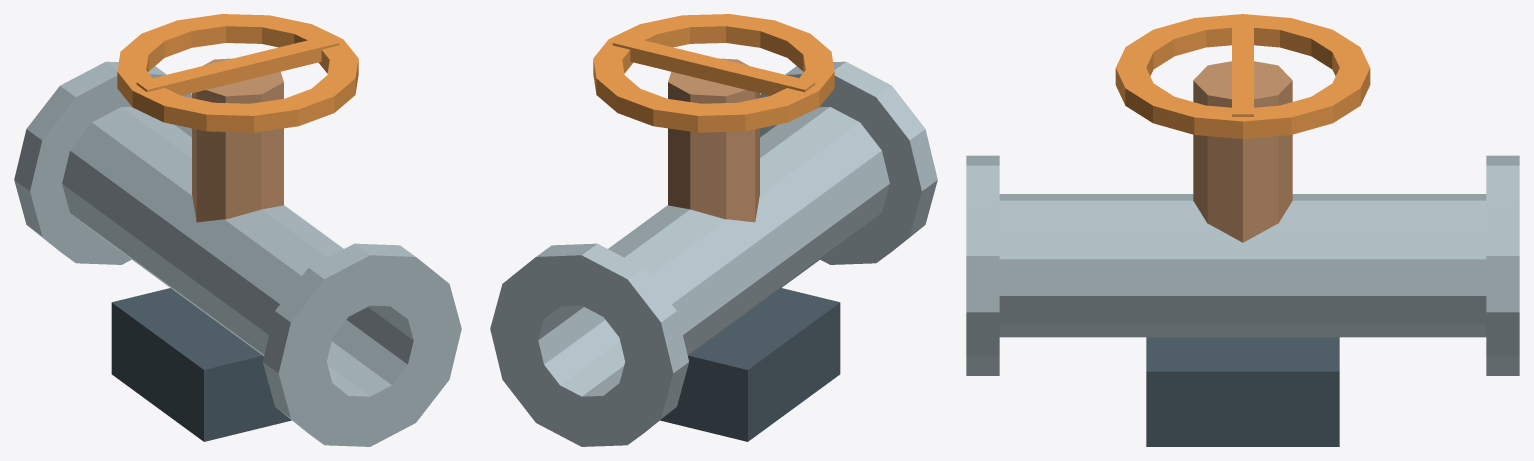
The model's file is handwheel-shutoff-valve.glb.
3 views of the same model, side by side, from view 1: azimuth 30°, elevation 25°; view 2: azimuth 150°, elevation 25°; view 3: azimuth 270°, elevation 25° (orthographic). The views are drawn at different scales.
Parts seen in each view (by area): view 1: steel, orange, dark, copper; view 2: steel, orange, dark, copper; view 3: steel, dark, orange, copper.
Boxes of the visible parts, left/top/right/bottom form: steel: left=14, top=61, right=461, bottom=446; orange: left=117, top=14, right=358, bottom=132; dark: left=111, top=288, right=291, bottom=441; copper: left=192, top=58, right=283, bottom=222; steel: left=490, top=61, right=937, bottom=446; orange: left=593, top=14, right=834, bottom=132; dark: left=660, top=288, right=840, bottom=441; copper: left=668, top=58, right=759, bottom=222; steel: left=966, top=155, right=1519, bottom=375; dark: left=1146, top=337, right=1339, bottom=446; orange: left=1115, top=14, right=1370, bottom=138; copper: left=1193, top=61, right=1292, bottom=242.
Bounding box in the file's own units: 0.46 × 0.68 × 1.
